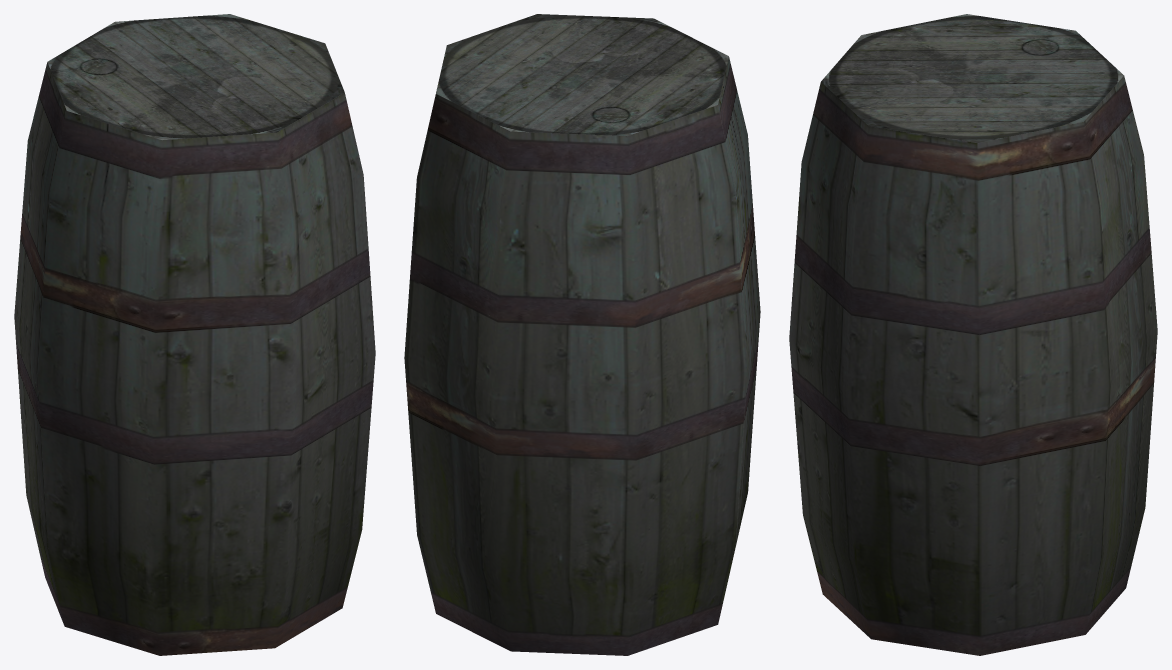
The model's file is Barrel_LOD03.fbx.
3 views of the same model, side by side, from view 1: azimuth 30°, elevation 25°; view 2: azimuth 150°, elevation 25°; view 3: azimuth 270°, elevation 25° (orthographic).
Visible parts, largest first — view 1: Mesh Object; view 2: Mesh Object; view 3: Mesh Object.
Part boxes in pixels (x1,y1,x2,y2): Mesh Object: (14, 14, 375, 655); Mesh Object: (404, 14, 760, 655); Mesh Object: (789, 14, 1157, 655).
Bounding box in the file's own units: 0.7084 × 1.09 × 0.7084.
